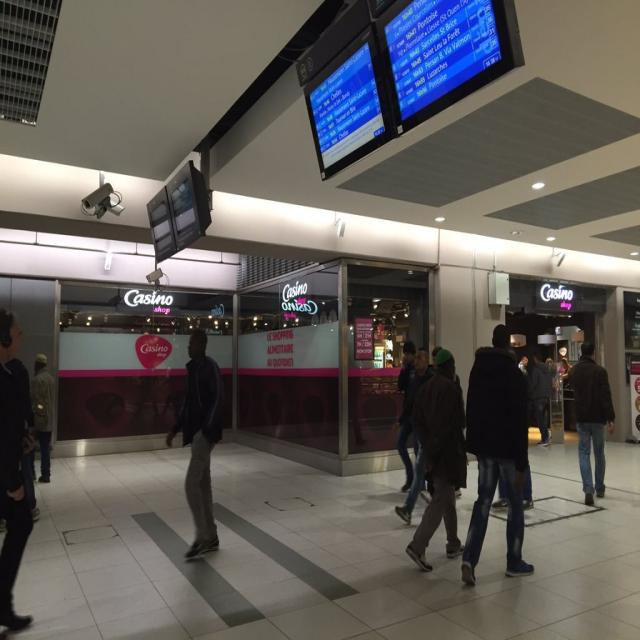body: (460, 321, 536, 588), (404, 347, 472, 574), (0, 302, 45, 639), (163, 326, 227, 562), (566, 338, 616, 507), (490, 348, 536, 512), (394, 345, 436, 524), (28, 352, 58, 484), (394, 339, 418, 493), (529, 349, 553, 448), (346, 378, 371, 456), (427, 345, 461, 385), (545, 356, 574, 376), (518, 355, 529, 375), (555, 362, 562, 373)
